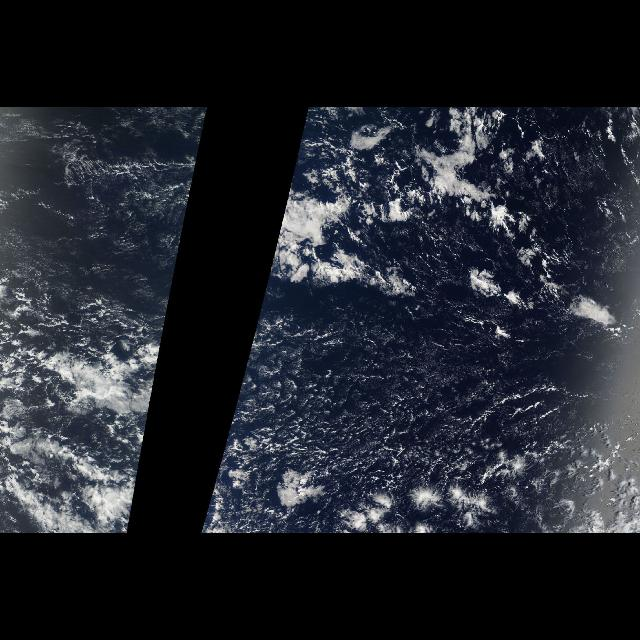Gravel: (216, 314, 622, 524)
Sugar: (5, 133, 165, 301)
